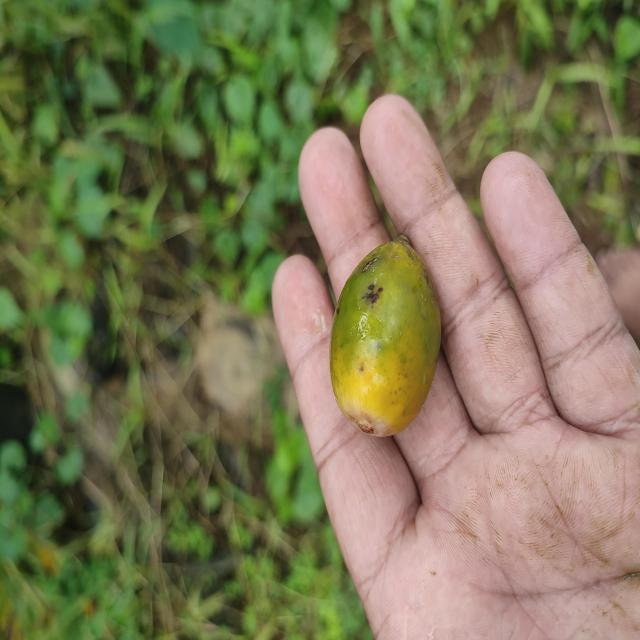good: (328, 241, 443, 440)
